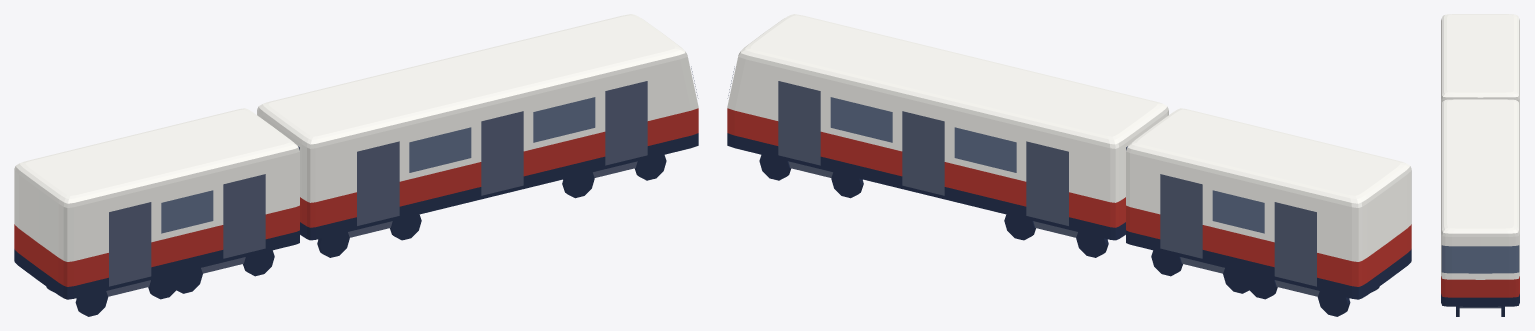
Rendered from metro.glb.
3 renders of one model, left to right at view 1: azimuth 30°, elevation 25°; view 2: azimuth 150°, elevation 25°; view 3: azimuth 270°, elevation 25°, orthographic. The views are drawn at different scales.
Parts seen in each view (by area): view 1: model; view 2: model; view 3: model.
Part boxes in pixels (<box>): model: <box>14,14,698,316</box>; model: <box>727,14,1411,316</box>; model: <box>1441,14,1519,316</box>.
Bounding box in the file's own units: 19.5 × 3.83 × 2.96.
